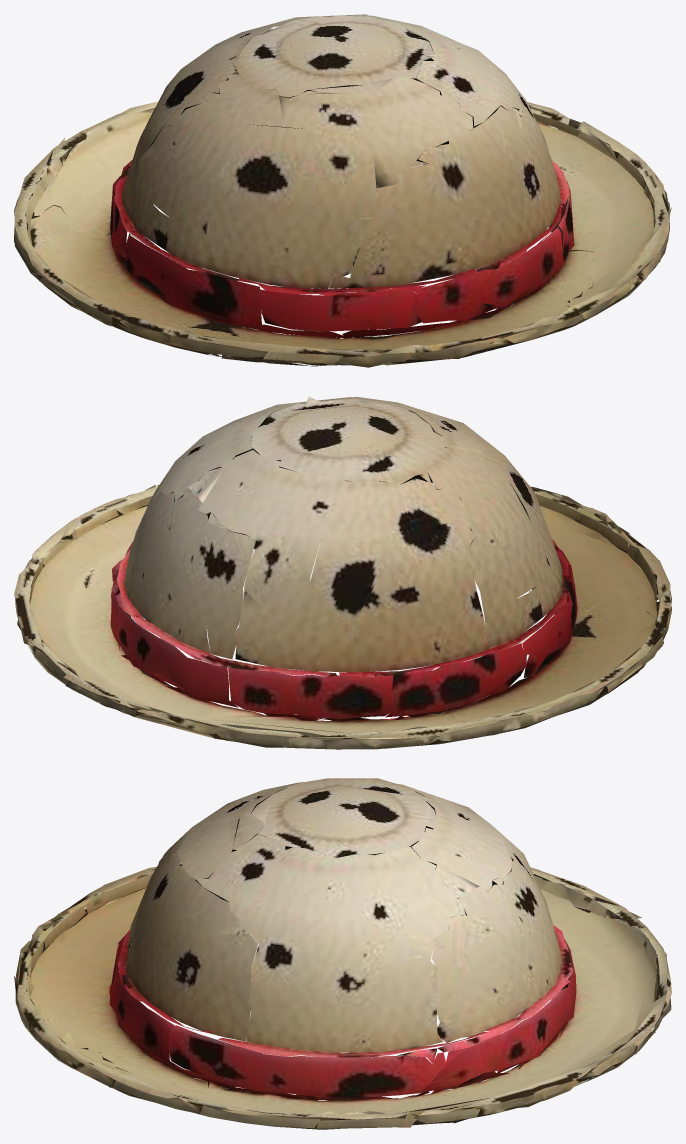
File: strawhat.glb
3 views of the same model, one above another, from view 1: azimuth 30°, elevation 25°; view 2: azimuth 150°, elevation 25°; view 3: azimuth 270°, elevation 25° (orthographic).
Visible parts, largest first — view 1: low; view 2: low; view 3: low.
Part boxes in pixels (x1,y1,x2,y2): low: (14, 14, 671, 367); low: (14, 396, 671, 749); low: (14, 778, 671, 1129).
Bounding box in the file's own units: 5.67 × 1.99 × 5.68.
Materials: 1 (1 with a texture image).
